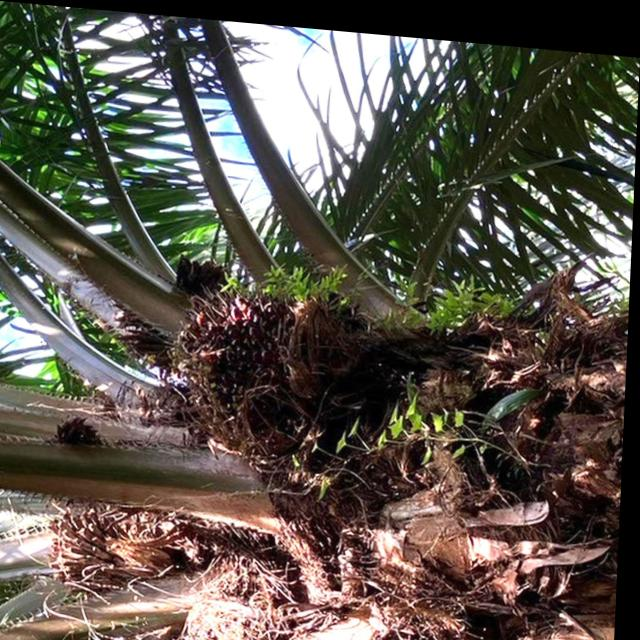ripe: (161, 267, 345, 439)
